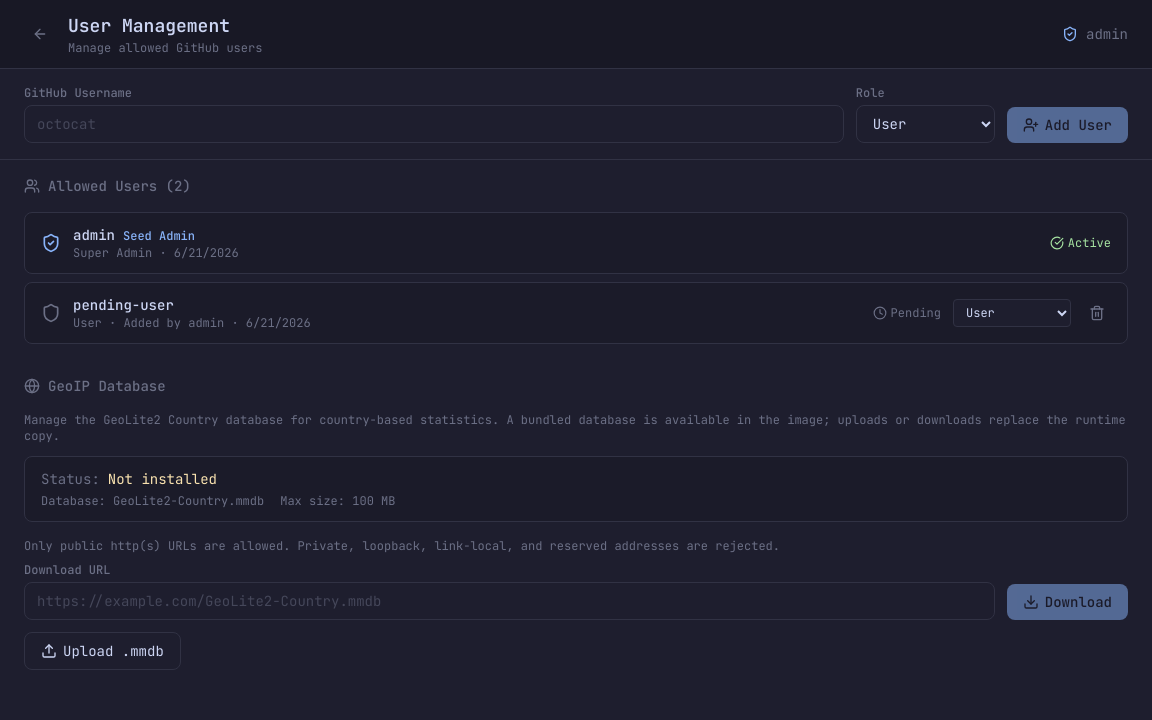
Test: AdminPage › shows GeoIP mutation errors
Type "http://127.0.0.1/GeoLite2-Country.mmdb" into the field with placeholder "https://example.com/GeoLite2-Country.mmdb".
click(509, 601); type("http://127.0.0.1/GeoLite2-Country.mmdb")  # box left=24, top=582, right=995, bottom=620
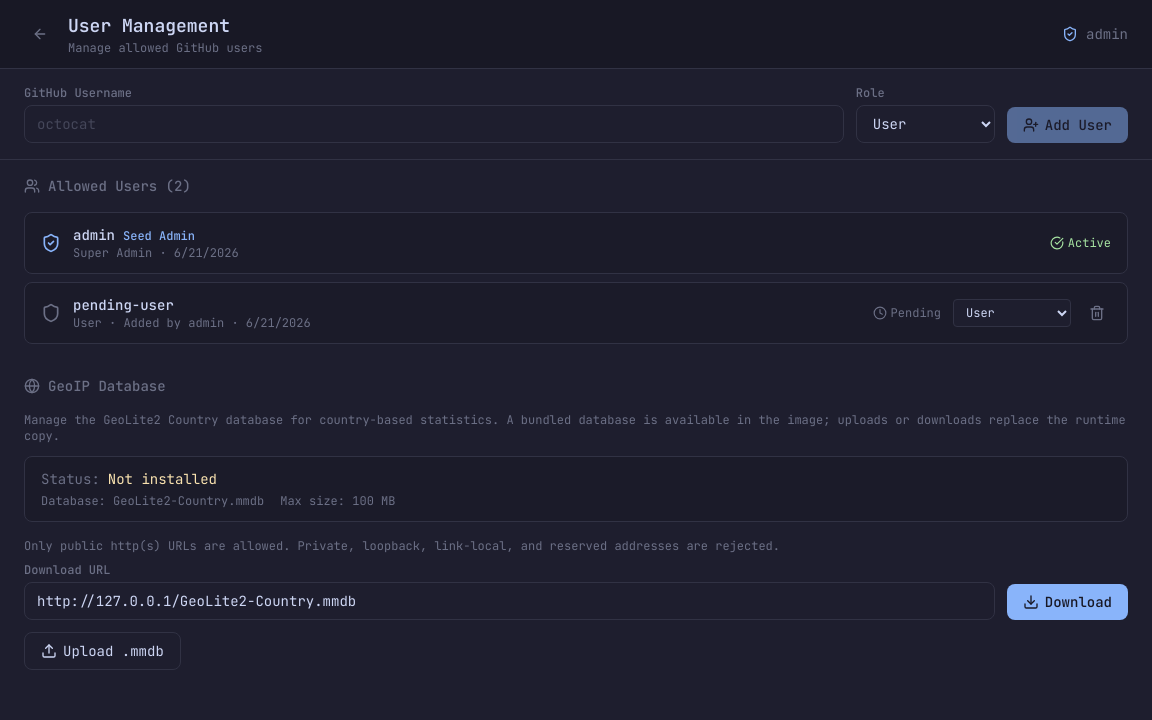
Click the button "Download".
click(1067, 602)  # box left=1007, top=584, right=1128, bottom=620
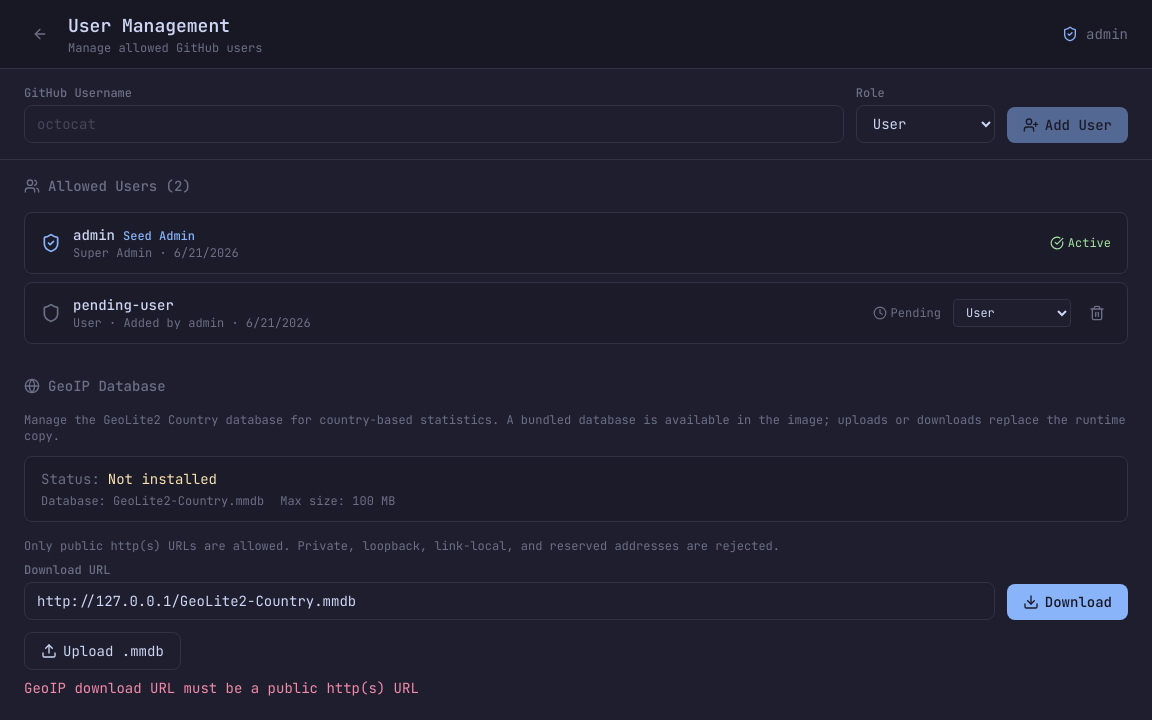
Expected: the text "GeoIP download URL must be a public http(s) URL" is shown, left=24, top=679, right=419, bottom=697
